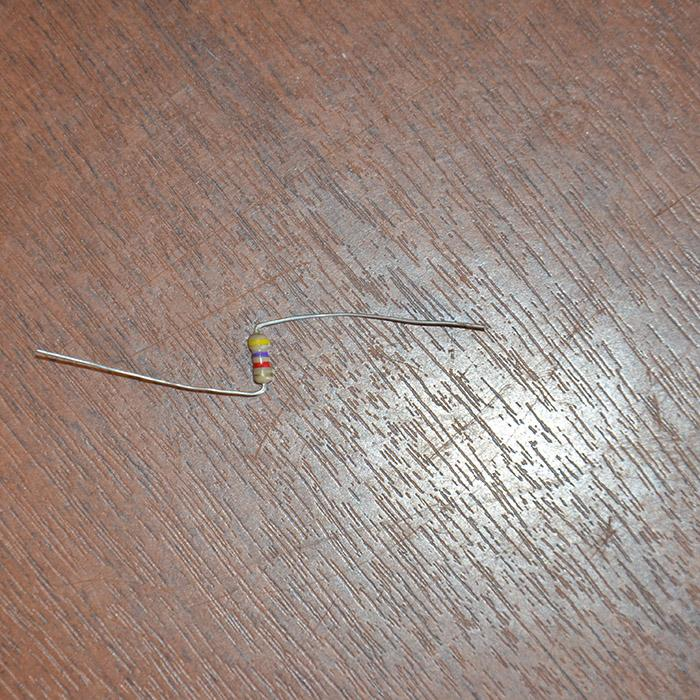resistor: (247, 332, 275, 385)
